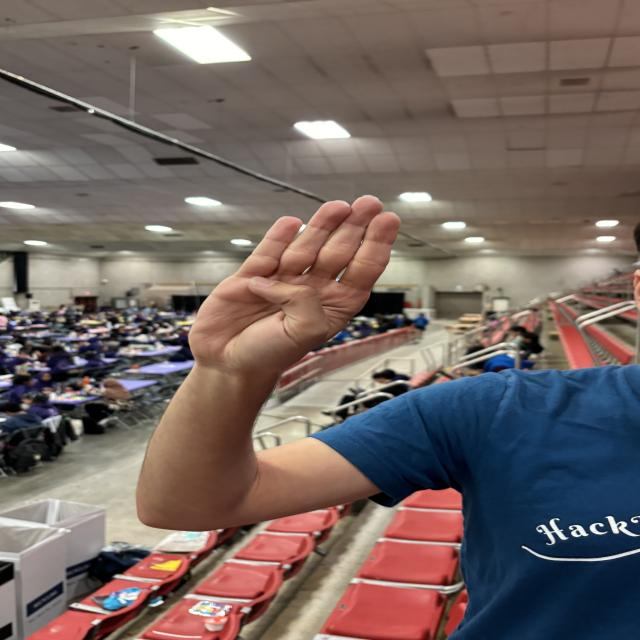B: (172, 186, 411, 360)
